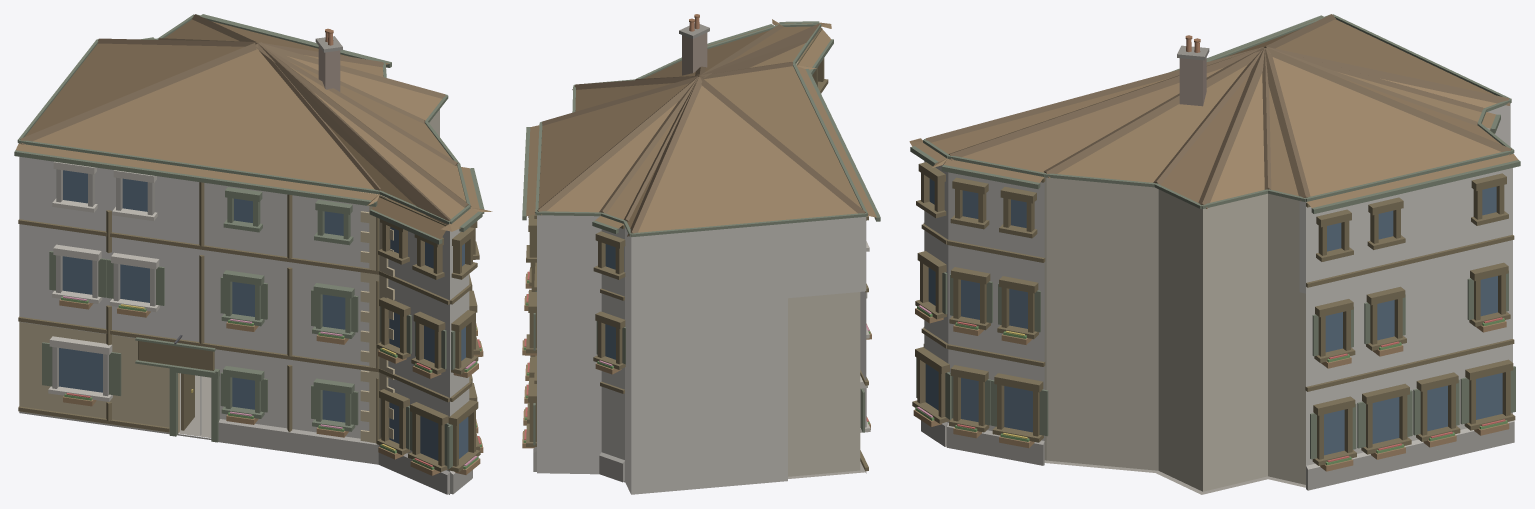
3 views of the same model, side by side, from view 1: azimuth 30°, elevation 25°; view 2: azimuth 150°, elevation 25°; view 3: azimuth 270°, elevation 25° (orthographic). The views are drawn at different scales.
Visible parts, largest first — view 1: B029_visible; view 2: B029_visible; view 3: B029_visible.
Boxes of the visible parts, <box> form: B029_visible: <box>14,14,492,494</box>; B029_visible: <box>522,14,880,494</box>; B029_visible: <box>909,14,1520,494</box>.
Size of the model in its own units: 14.09 by 13.27 by 18.51.
